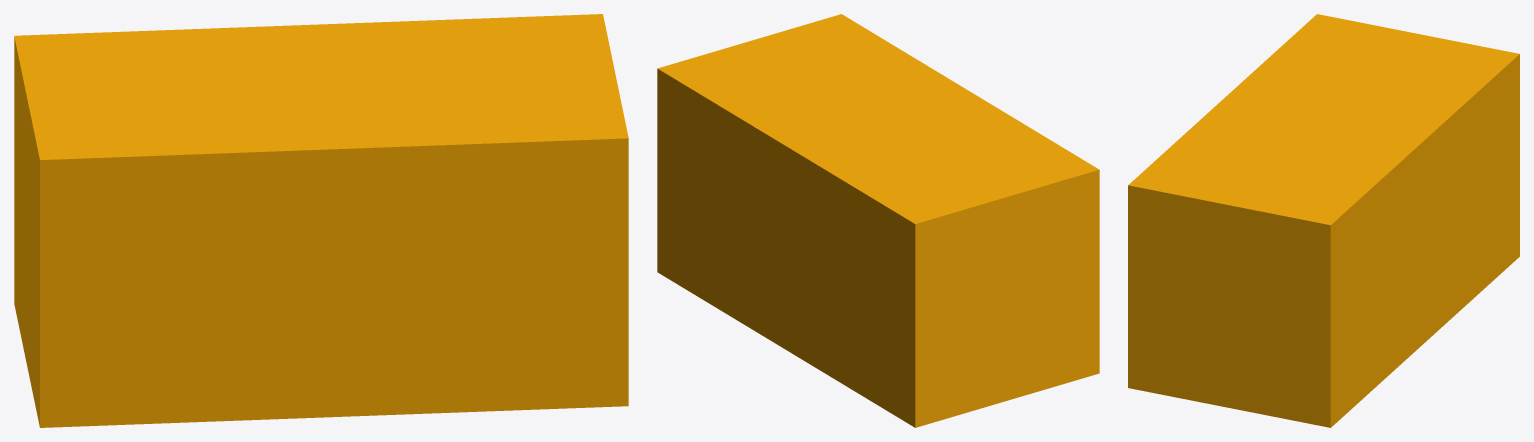
Rendered from YellowCuboid-0622.FBX.
3 views of the same model, side by side, from view 1: azimuth 30°, elevation 25°; view 2: azimuth 150°, elevation 25°; view 3: azimuth 270°, elevation 25° (orthographic). The views are drawn at different scales.
Visible parts, largest first — view 1: YellowCuboid; view 2: YellowCuboid; view 3: YellowCuboid.
Part boxes in pixels (x1,y1,x2,y2): YellowCuboid: [14, 14, 628, 427]; YellowCuboid: [657, 14, 1099, 427]; YellowCuboid: [1128, 14, 1519, 427].
Bounding box in the file's own units: 11.18 × 5 × 8.76.
